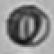correct: (6, 4, 51, 47)
